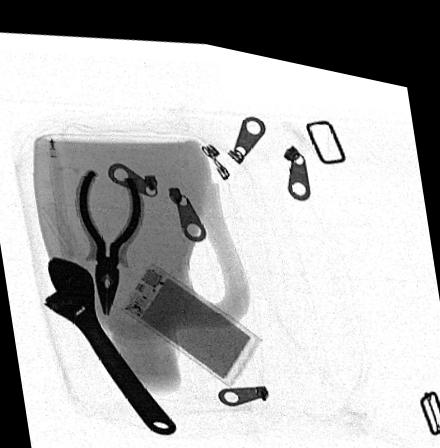Pliers: (77, 165, 144, 311)
Powerbank: (119, 256, 262, 378)
Wrench: (42, 253, 177, 428)
